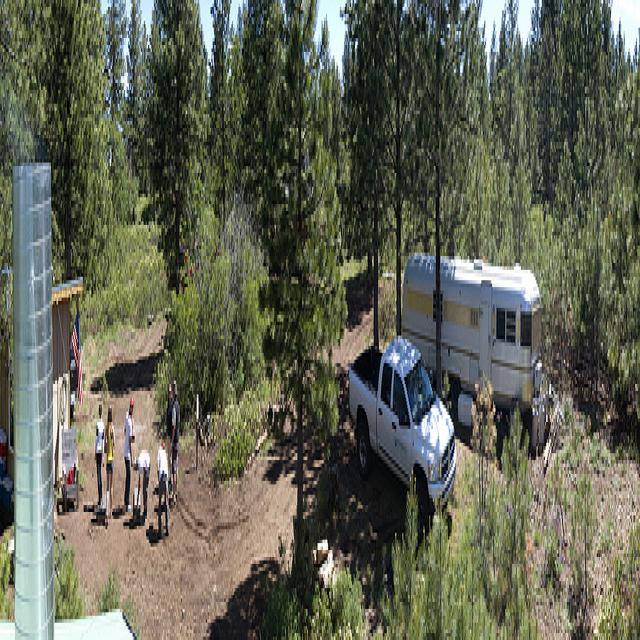Vehicle: (348, 334, 457, 523)
